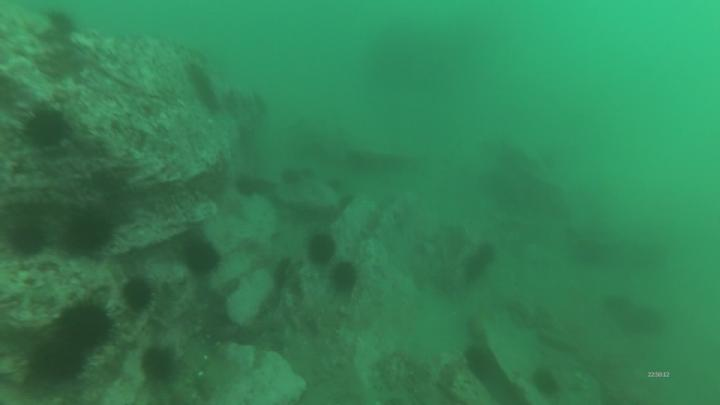echinus: (58, 298, 123, 353), (25, 339, 88, 387), (62, 213, 117, 257), (22, 111, 70, 152), (140, 347, 177, 386), (183, 243, 221, 278), (9, 225, 48, 259), (306, 231, 340, 270), (122, 279, 157, 314), (328, 260, 360, 298), (44, 9, 82, 39), (530, 366, 561, 400), (460, 254, 485, 285), (474, 240, 499, 269), (235, 176, 259, 199), (338, 193, 358, 211), (281, 169, 299, 187), (299, 167, 315, 181), (327, 178, 342, 192)
